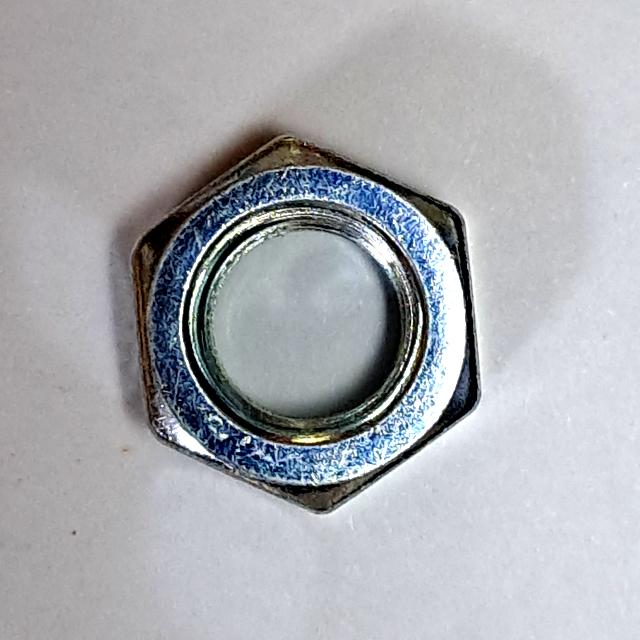Excellent: (117, 121, 493, 525)
